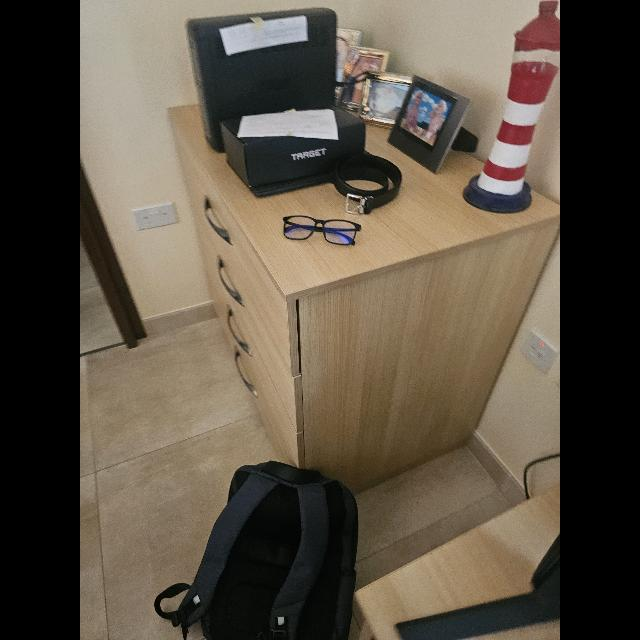glasses: (283, 216, 361, 244)
